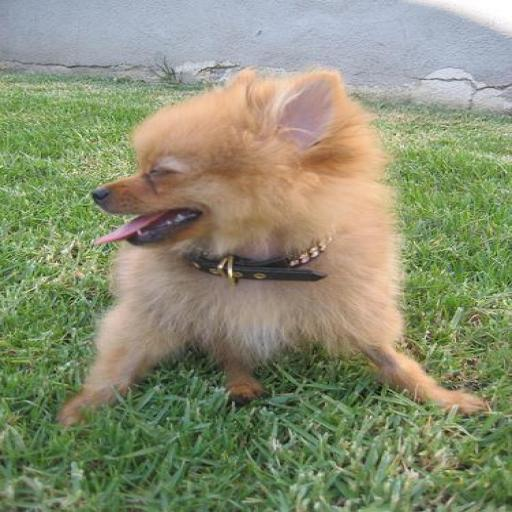dog_face: (90, 73, 358, 246)
